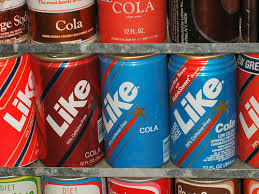can: (170, 49, 241, 186), (102, 50, 169, 166), (32, 50, 98, 167)
